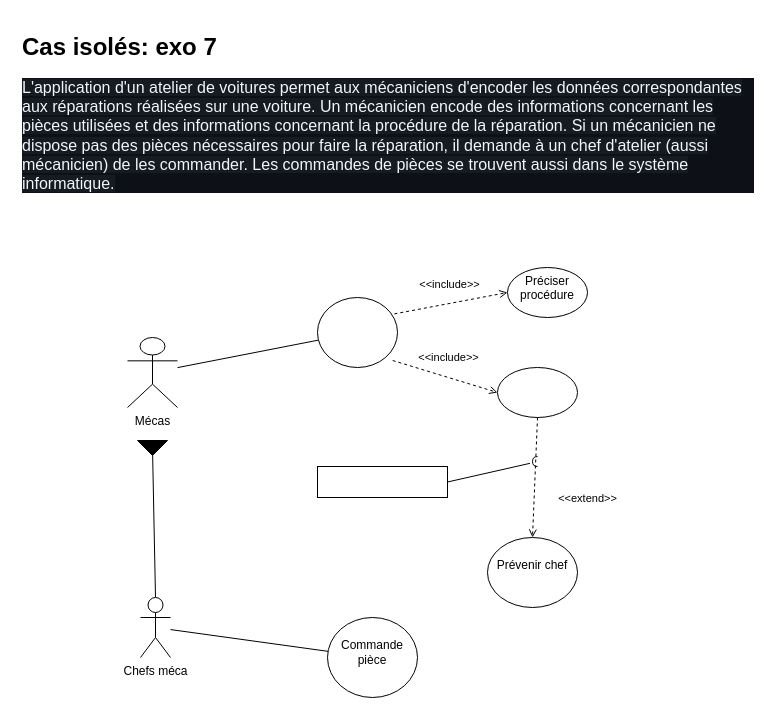
The diagram is 774 pixels wide and 715 high, and some of its shapes have lost their labels. The shapes that lost their labels are listed below. From the top down, each one's centre as x and y in pixels, then its label:
At (357,332): "Encode infos".
At (537,392): "Préciser pièces".
At (382,482): "Pièces non dispos".
